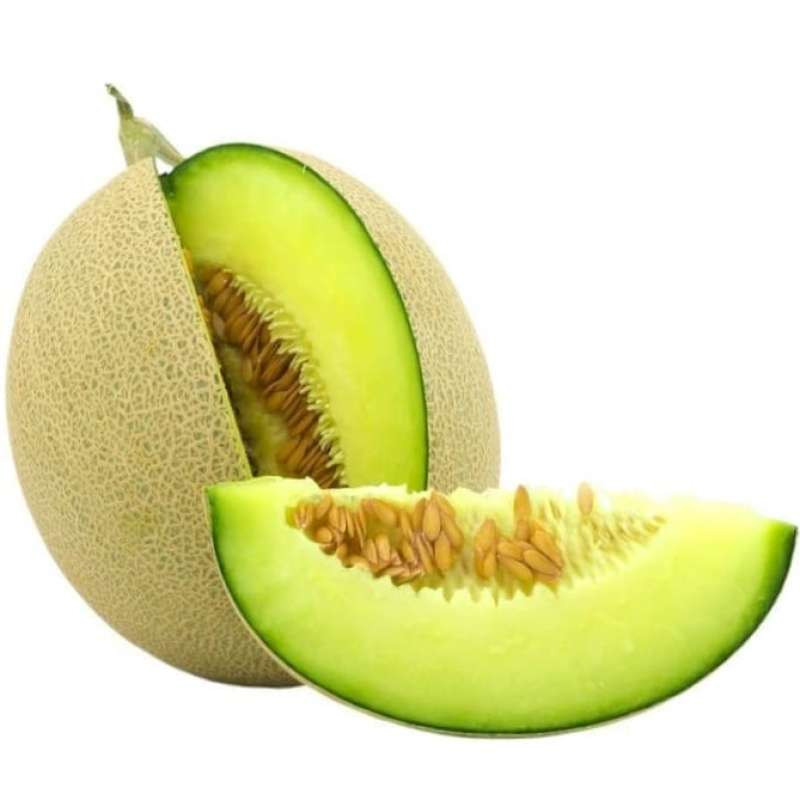Melon: (198, 475, 783, 745)
